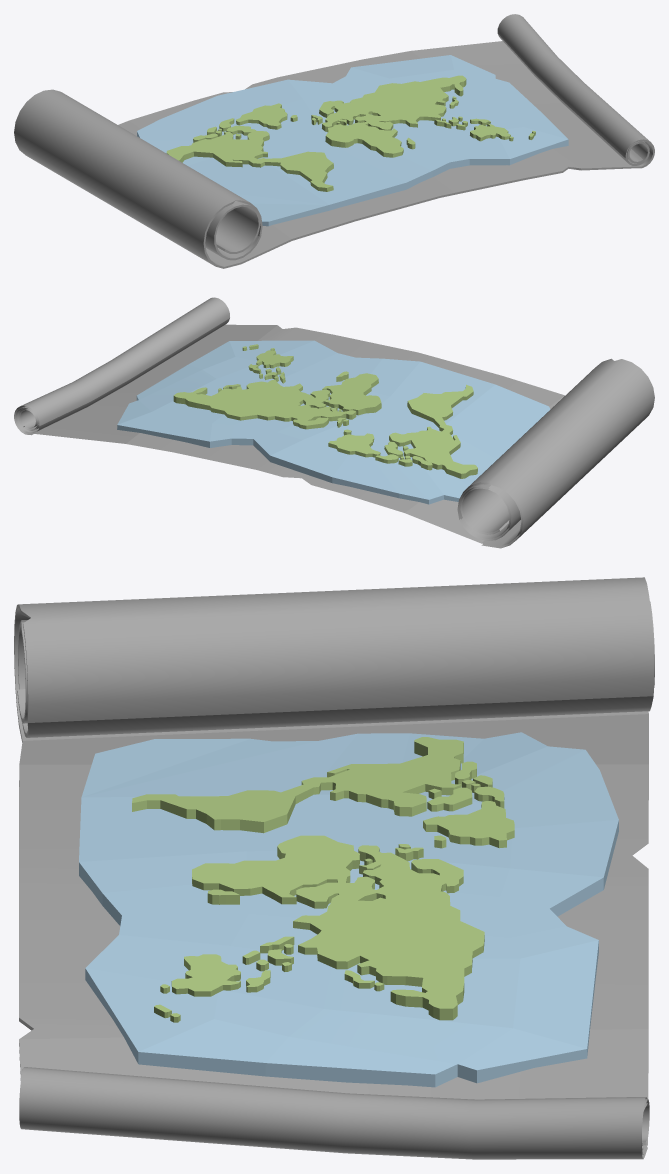
Rendered from WorldMap.fbx.
3 views of the same model, one above another, from view 1: azimuth 30°, elevation 25°; view 2: azimuth 150°, elevation 25°; view 3: azimuth 270°, elevation 25° (orthographic). The views are drawn at different scales.
Visible parts, largest first — view 1: Paper, water, Continents; view 2: Paper, water, Continents; view 3: Paper, water, Continents.
Boxes of the visible parts, x1,y1,x2,y2 form: Paper: [14, 14, 654, 268]; water: [137, 55, 568, 226]; Continents: [166, 75, 535, 191]; Paper: [14, 297, 654, 548]; water: [117, 340, 550, 504]; Continents: [173, 344, 477, 478]; Paper: [14, 577, 654, 1159]; water: [79, 732, 618, 1087]; Continents: [132, 737, 514, 1022].
Size of the model in its own units: 3.24 by 0.4281 by 1.8.
